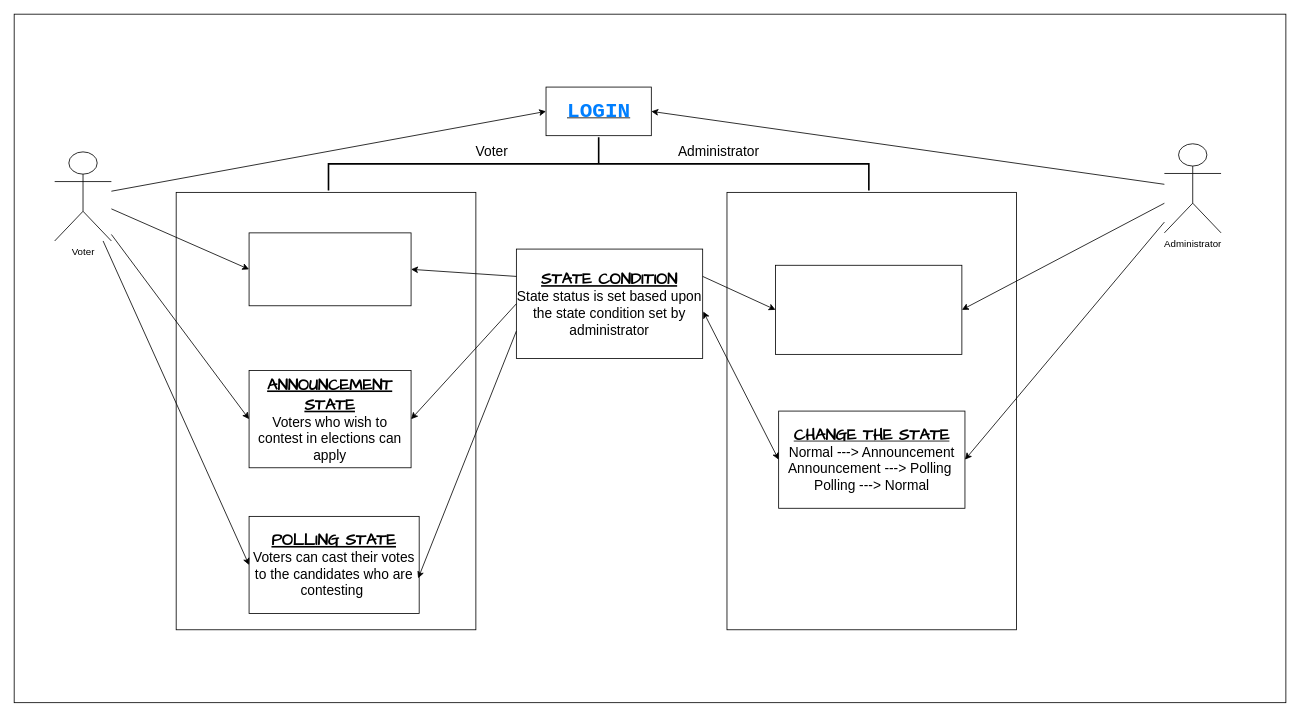
Some shapes in this 1300 by 717 pixel diagram are drawn without their labels. Each missing label, with the centre of its shape:
"ADD/REMOVE VOTER Add or remove voter from the database only in normal state" goes at [868,309].
"NORMAL STATE Display last election results" goes at [329,269].
